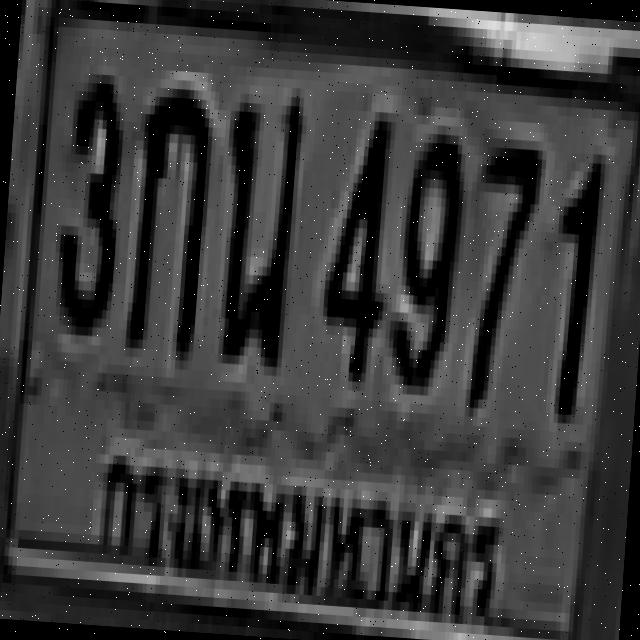1: (546, 147, 602, 411)
10GorGai: (120, 77, 212, 352)
3: (50, 63, 123, 328)
34NorNu: (214, 84, 300, 358)
4: (315, 104, 388, 369)
7: (466, 137, 538, 402)
9: (386, 122, 464, 388)
Bangkok: (74, 421, 513, 640)
